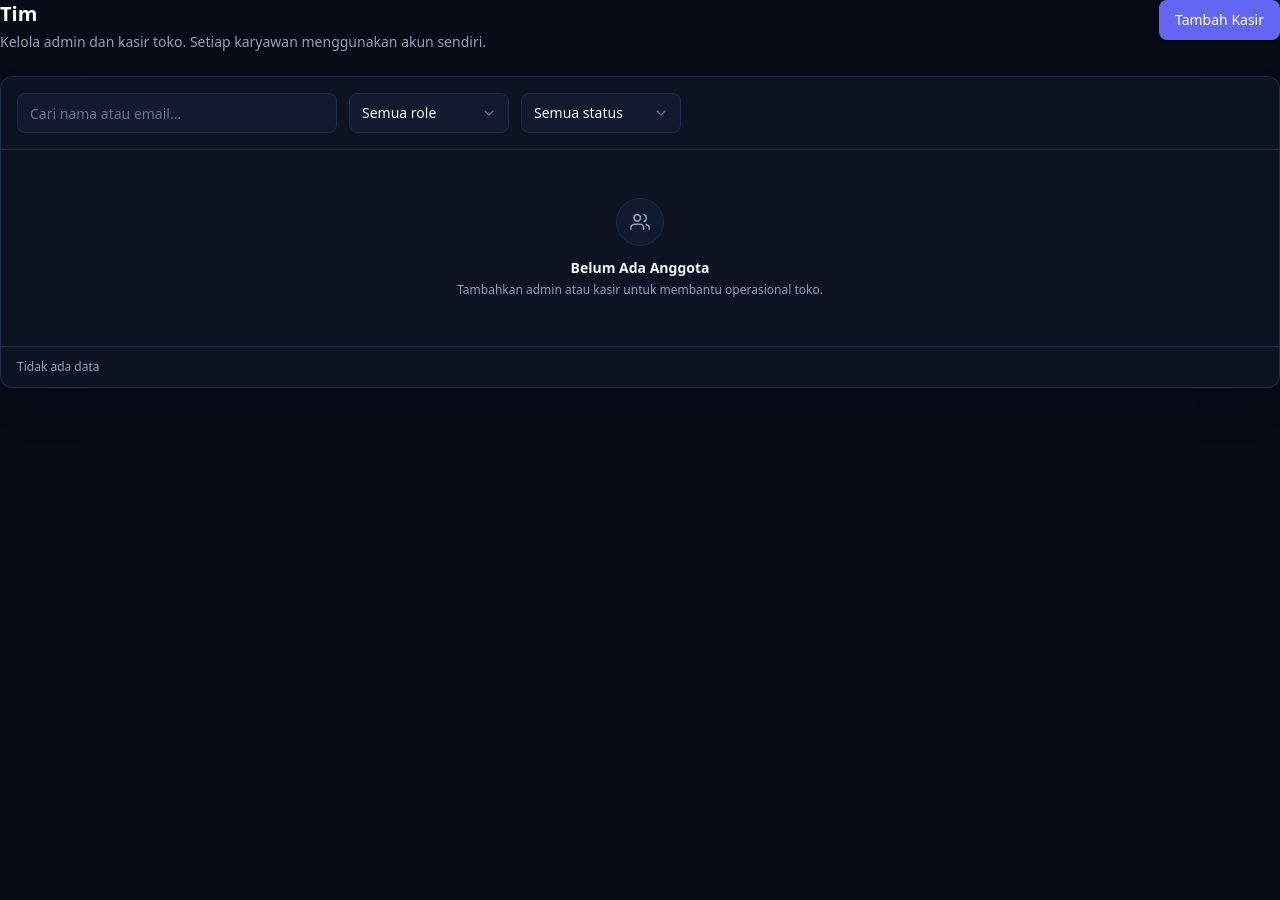
it: TeamPage › shows 422 validation errors on the form
This screenshot has width=1280, height=900.
Click the button "Tambah Kasir" at (1220, 20), box x1=1159 y1=0 x2=1279 y2=40
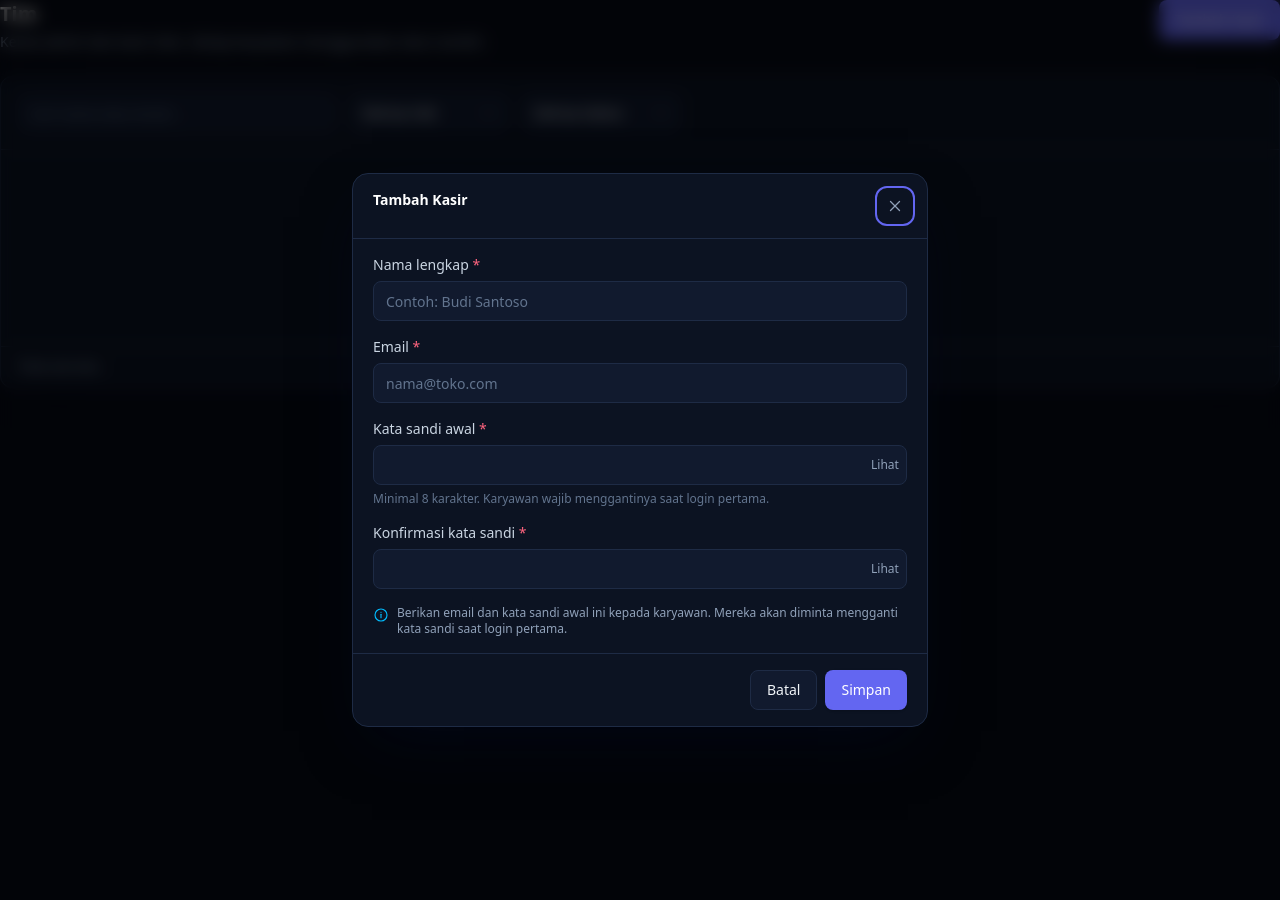
Type "Admin Baru" into the field named "name" at (640, 301), box x1=373 y1=281 x2=907 y2=321
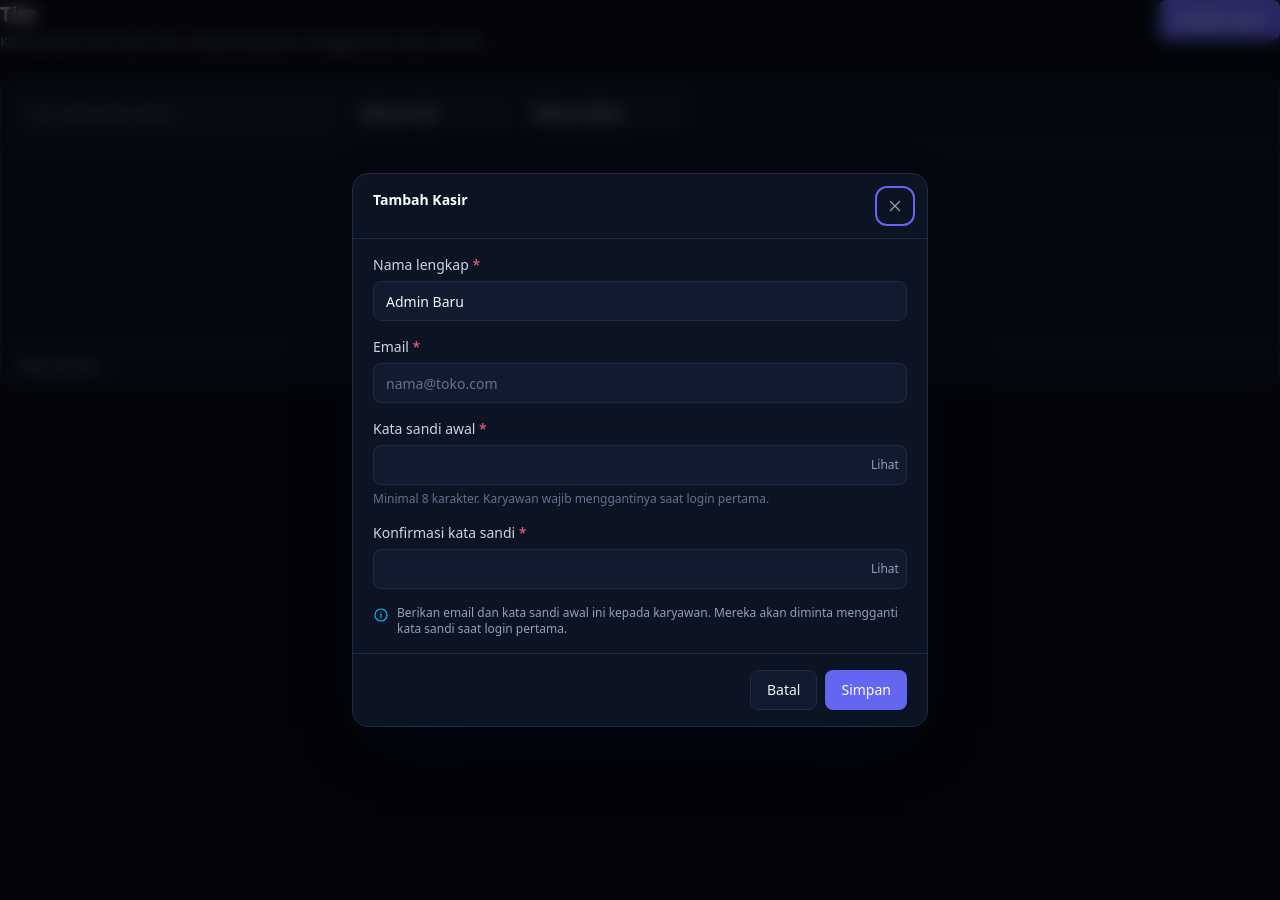
Type "baru@example.com" into the field named "email" at (640, 383), box x1=373 y1=363 x2=907 y2=403
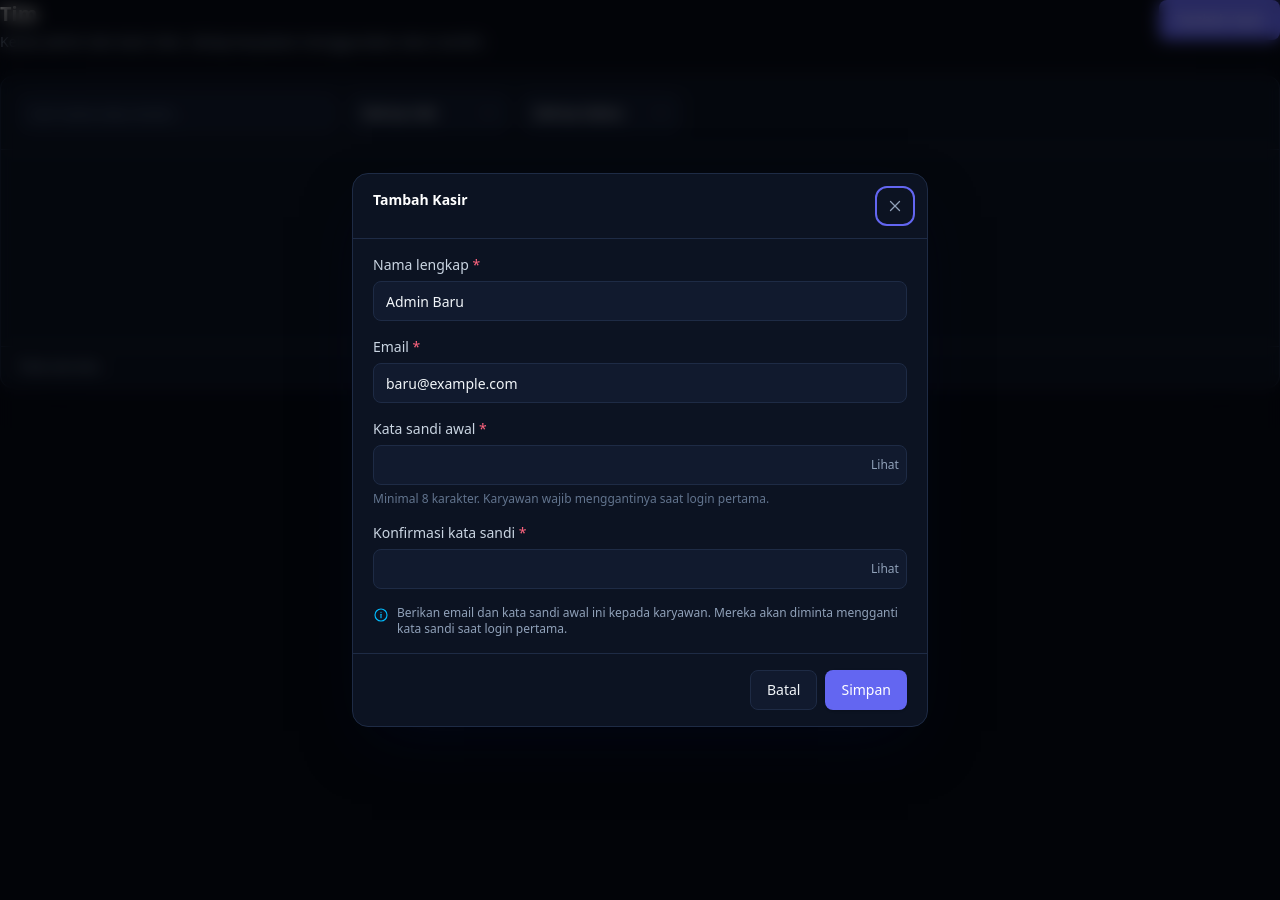
Type "password123" into the password field named "password" at (640, 465), box x1=373 y1=445 x2=907 y2=485
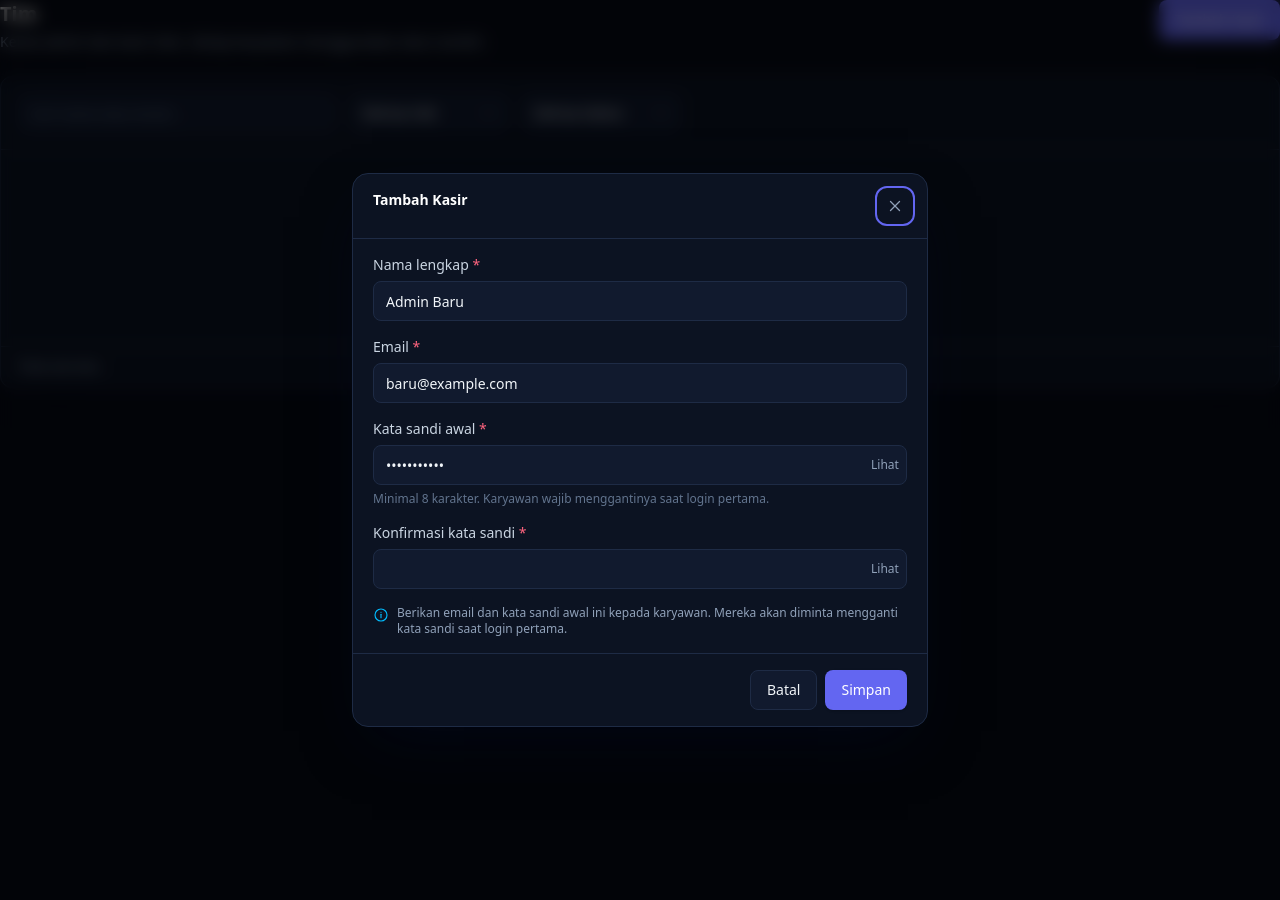
Type "password123" into the password field named "password_confirmation" at (640, 569), box x1=373 y1=549 x2=907 y2=589
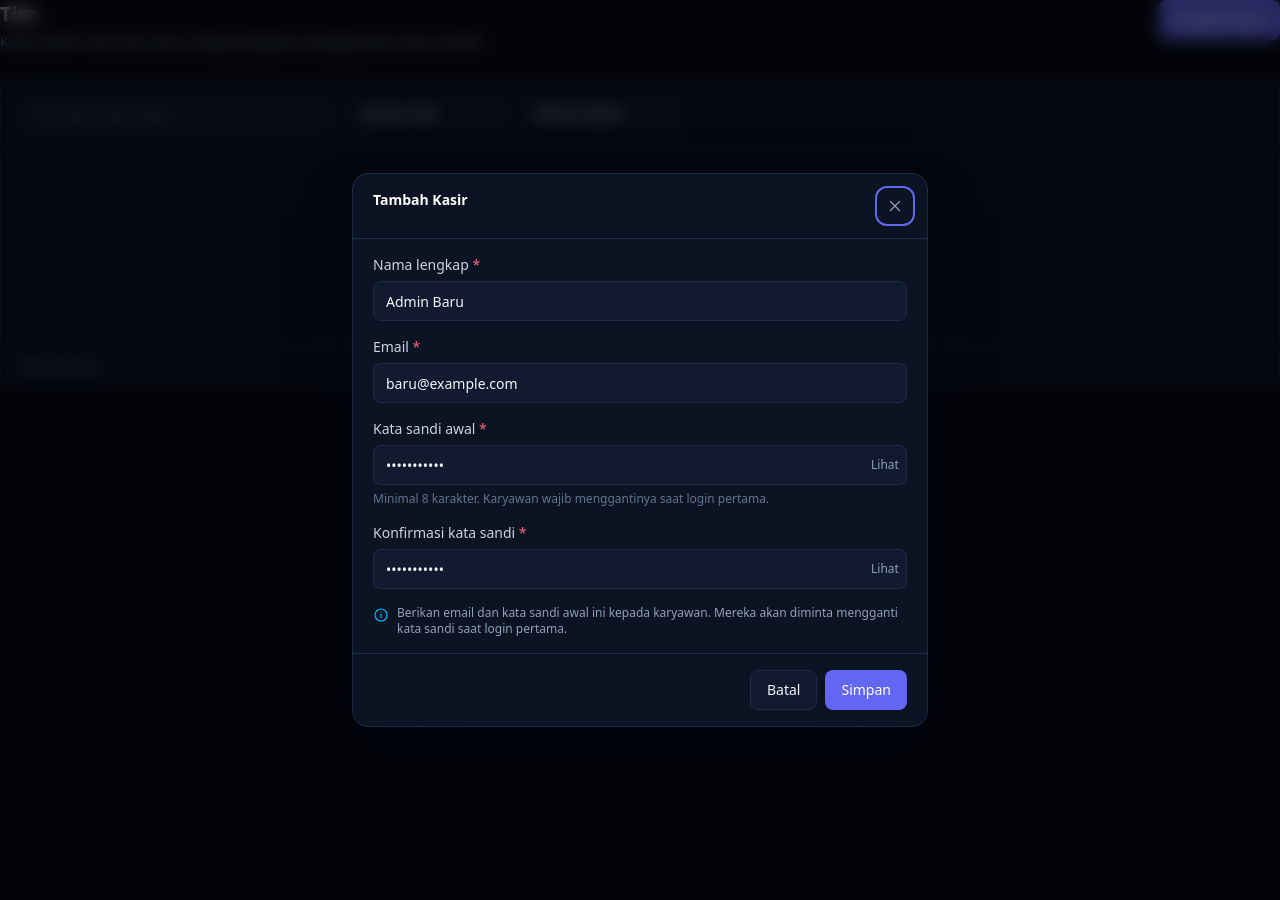
Submit the form with id "member-form", box x1=373 y1=255 x2=907 y2=637
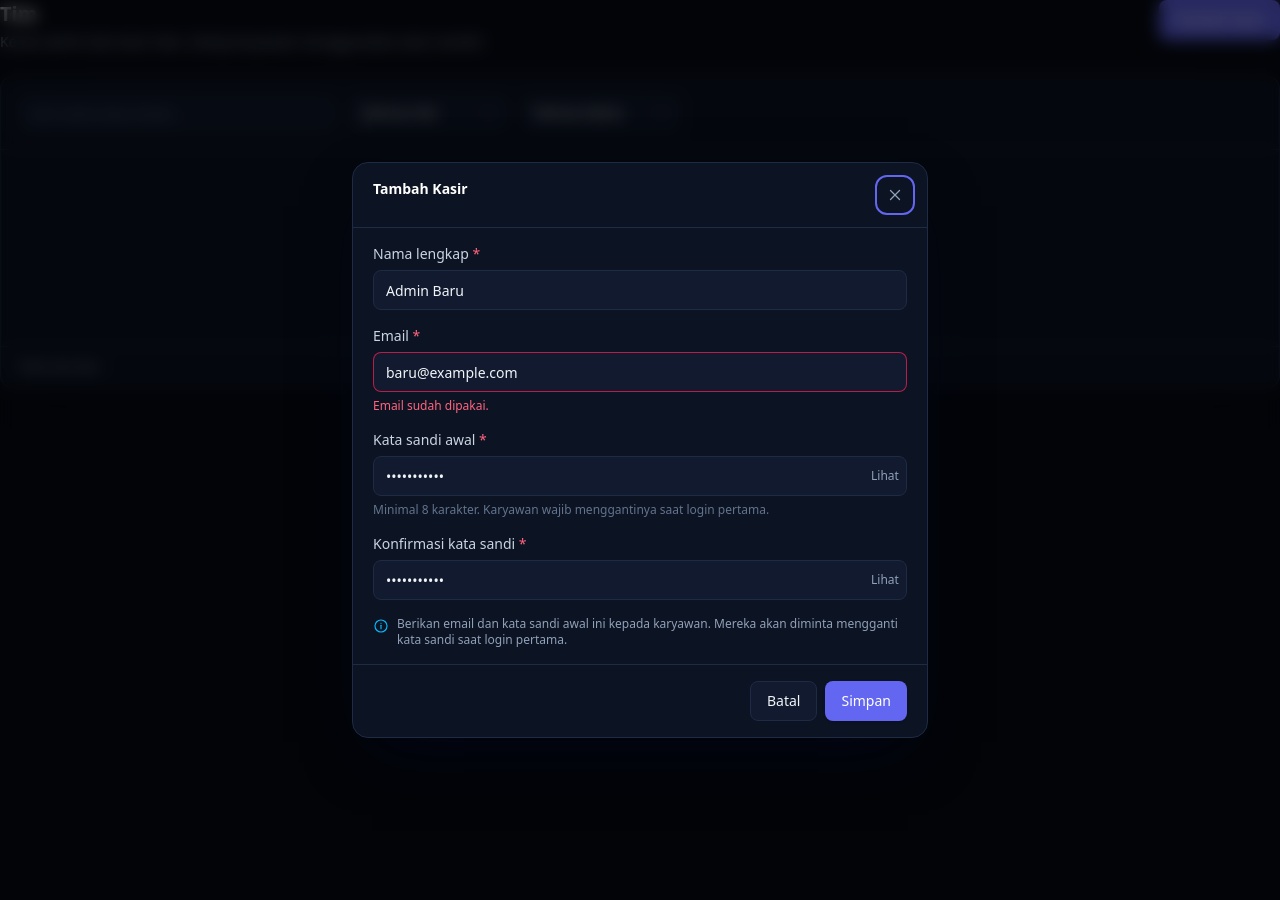
Expected: the text "Email sudah dipakai." is shown, x1=373 y1=397 x2=489 y2=414
